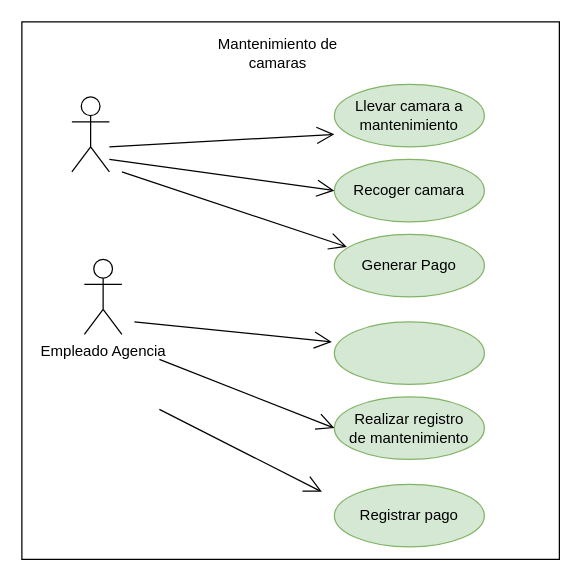
The diagram is 581 pixels wide and 581 high, and some of its shapes have lost their labels. The shapes that lost their labels are listed below. From the top down, each one's centre as x and y in pixels, then its label:
At (x=90, y=134): "Cliente".
At (x=408, y=352): "Realizar Mantenimiento".
